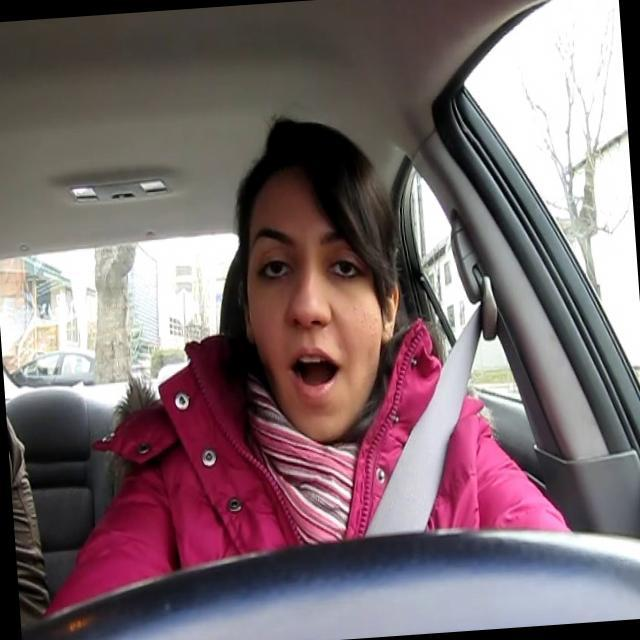Yawning: (286, 343, 346, 399)
